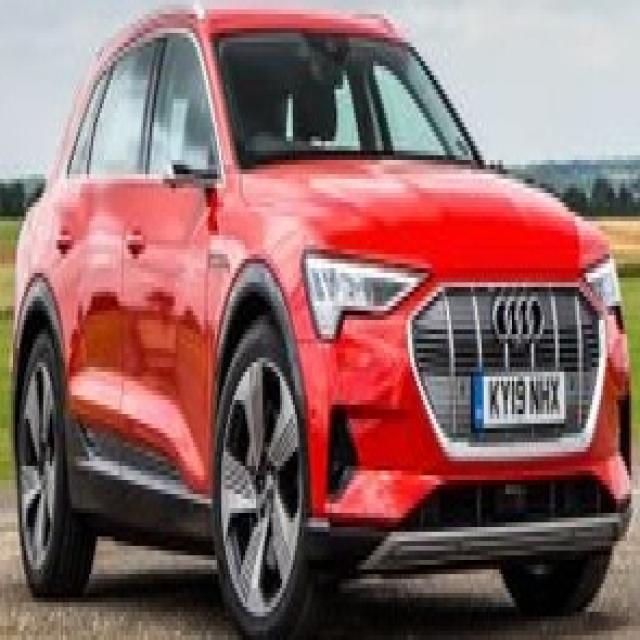red: (24, 28, 626, 640)
